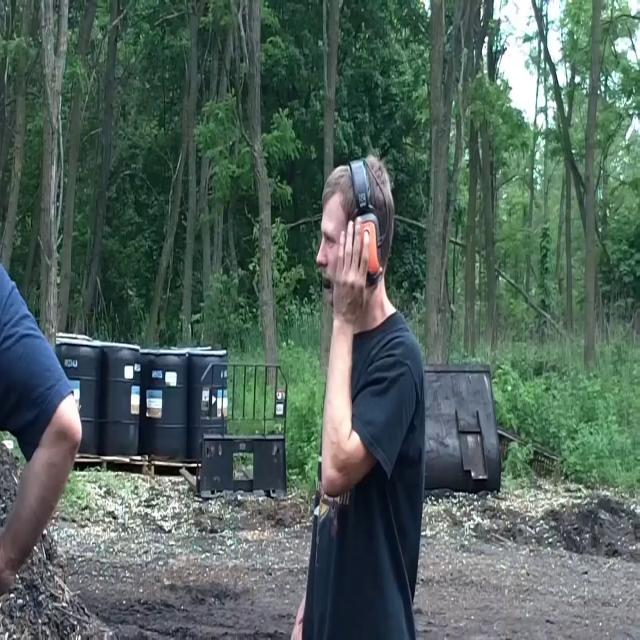earmuff: (362, 223, 378, 273)
